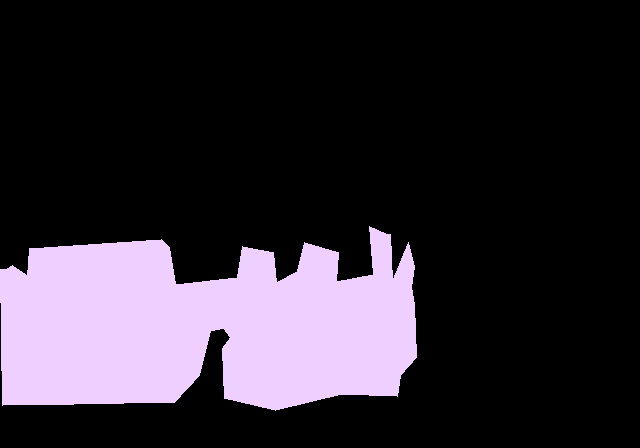Train: (0, 226, 416, 411)
